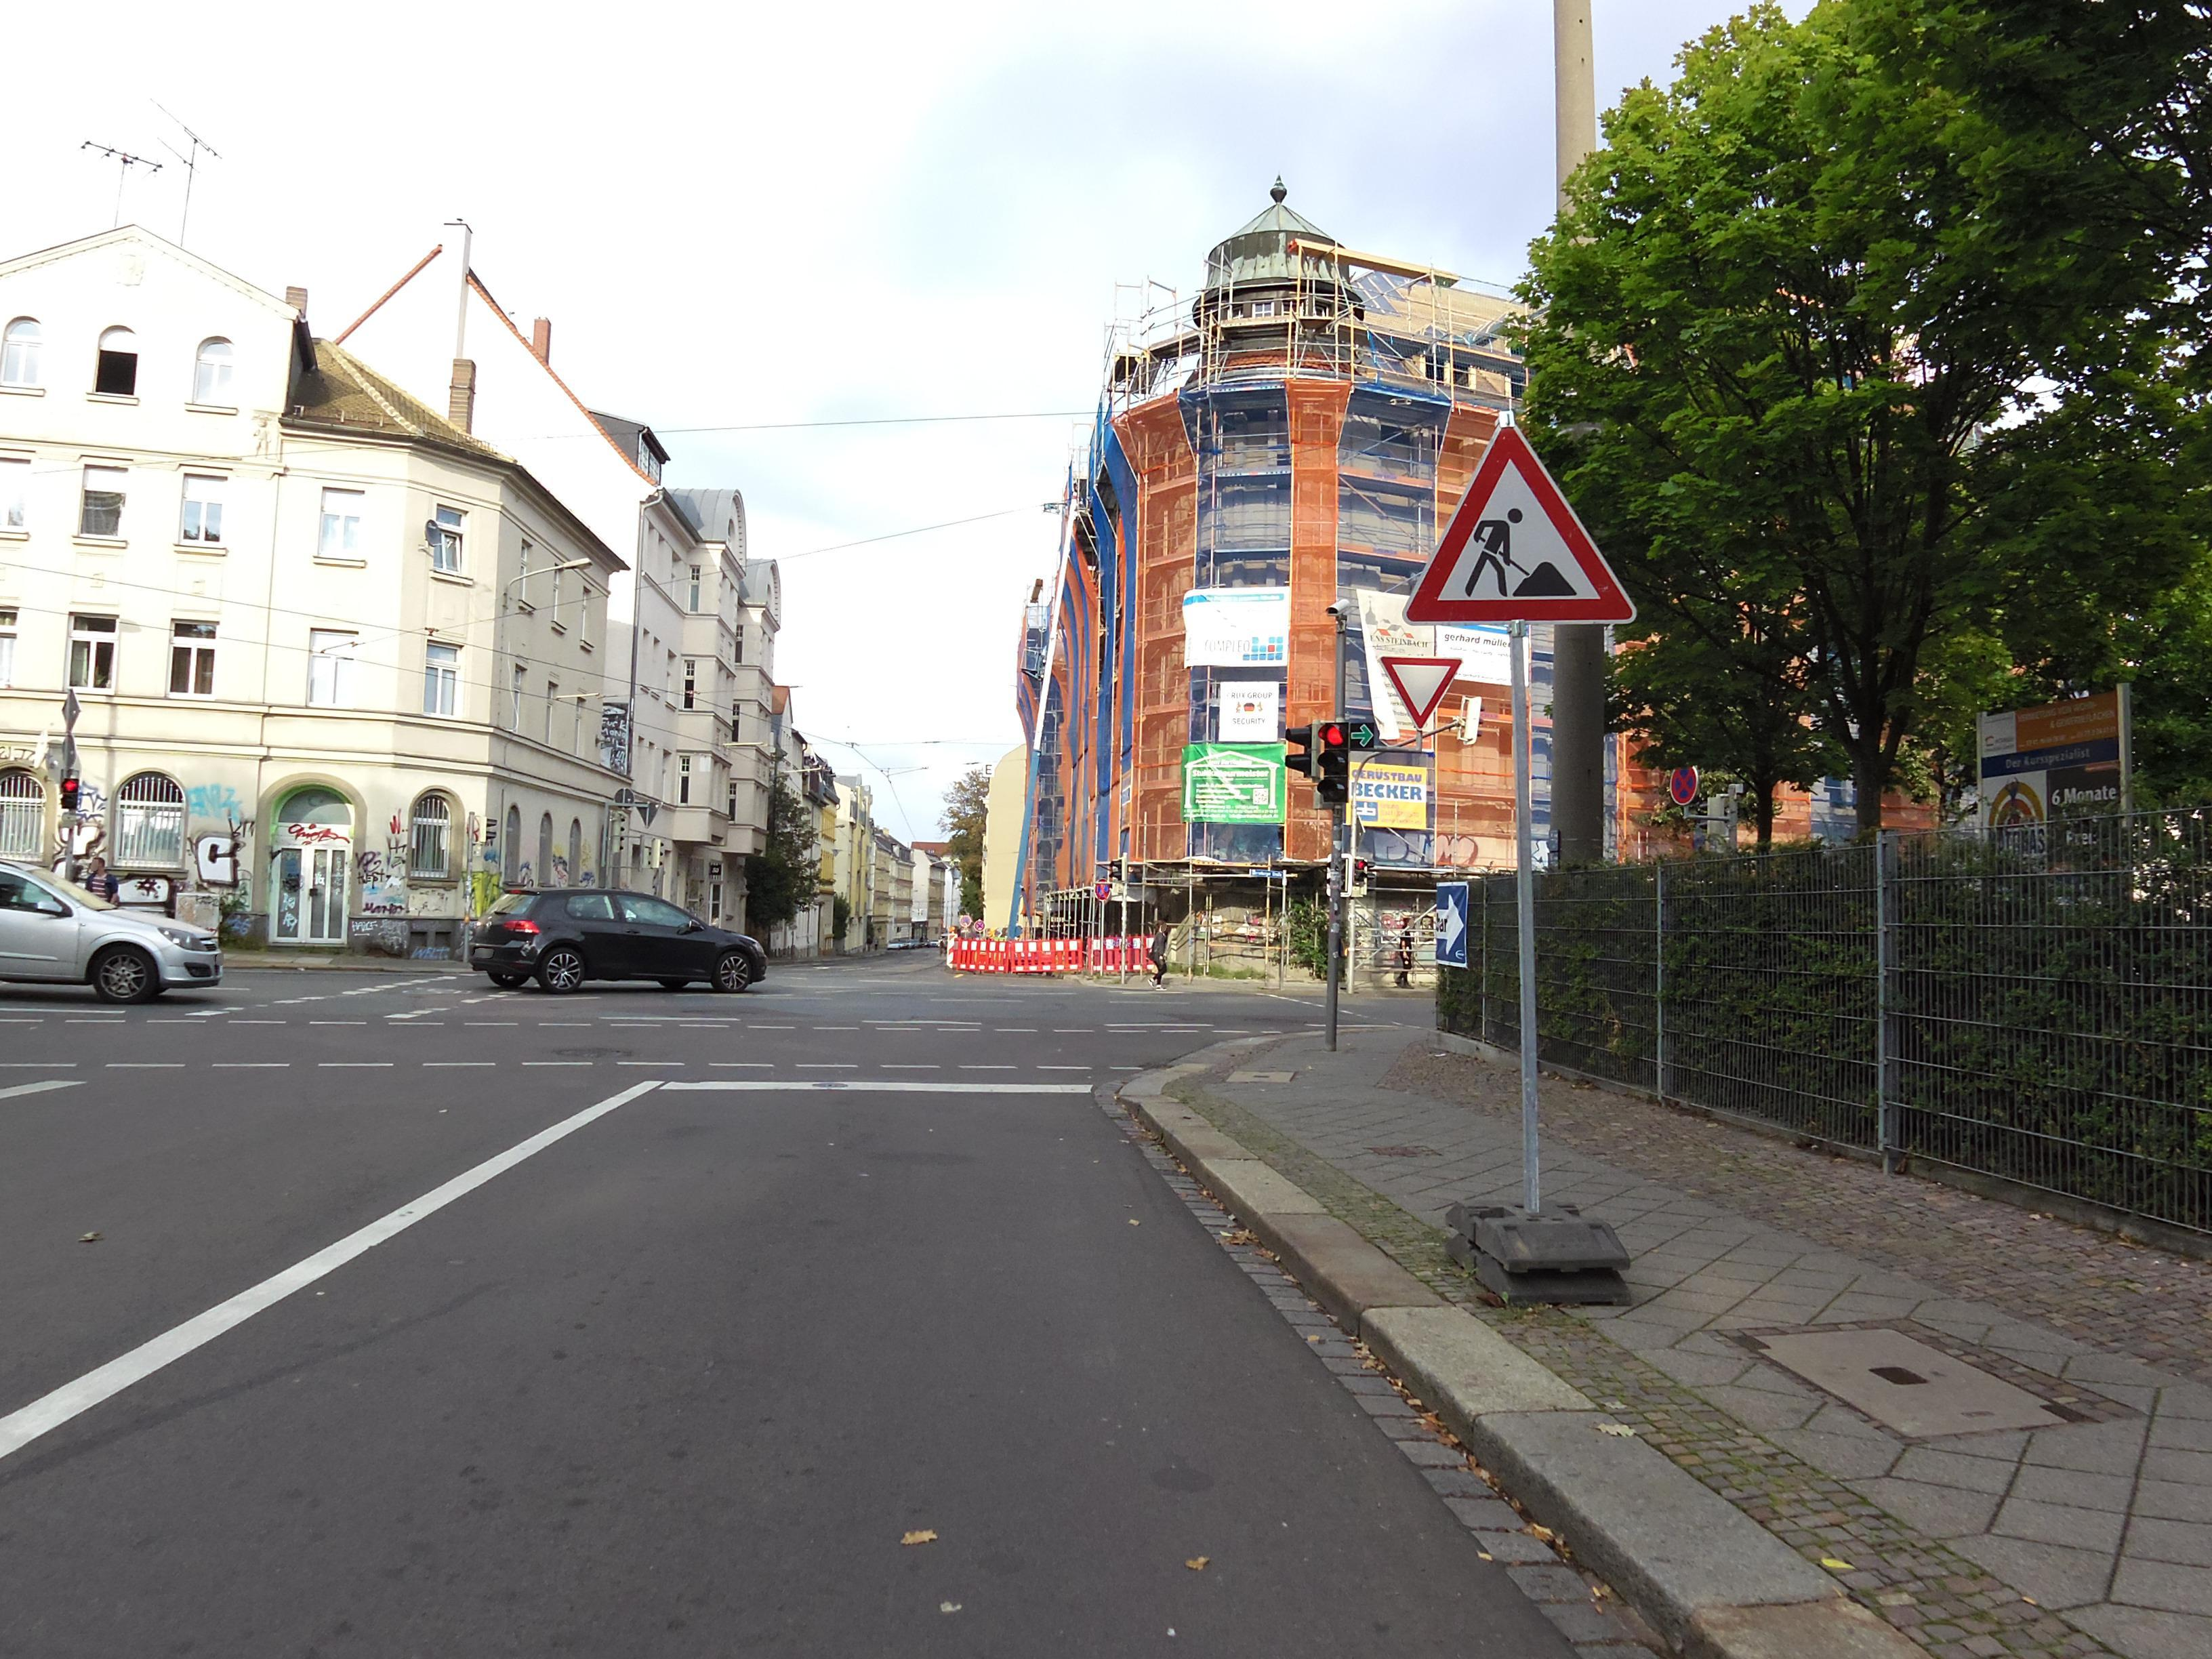vinyl banner: (1338, 561, 1453, 749), (1174, 566, 1296, 664), (1167, 735, 1298, 824), (1345, 751, 1433, 838), (1216, 674, 1296, 748)
